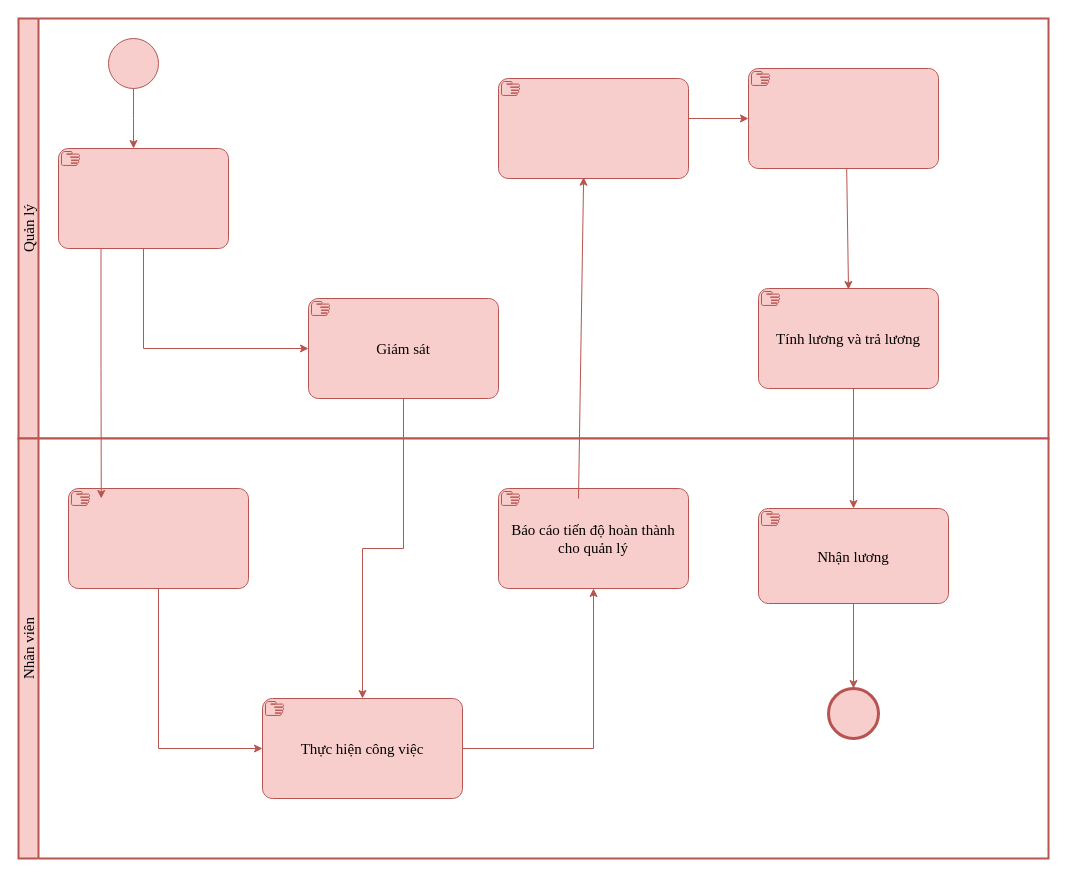
Image size: 1066x876. Some labels were removed from this diagram. The shapes that lost their labels are listed below. From the top down, each one's centre as x and y in pixels, then its label:
point (593, 128): Kiểm tra mức độ hoàn thành
point (843, 118): Ghi công vào sổ
point (143, 198): Phân công công việc
point (158, 538): Nhận công việc từ quản lý
